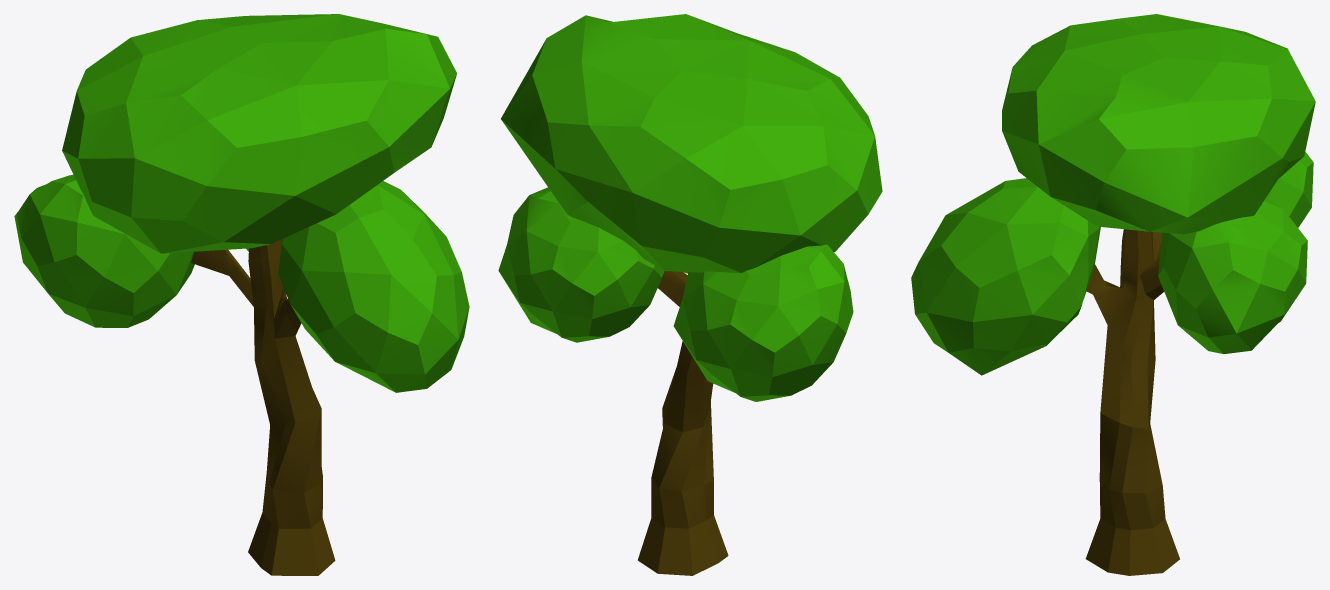
File: GreenTree4.fbx
3 views of the same model, side by side, from view 1: azimuth 30°, elevation 25°; view 2: azimuth 150°, elevation 25°; view 3: azimuth 270°, elevation 25° (orthographic). The views are drawn at different scales.
Visible parts, largest first — view 1: pPlatonic49; view 2: pPlatonic49; view 3: pPlatonic49.
Boxes of the visible parts, left/top/right/bottom form: pPlatonic49: left=14, top=14, right=469, bottom=575; pPlatonic49: left=498, top=14, right=882, bottom=575; pPlatonic49: left=911, top=14, right=1315, bottom=575.
Bounding box in the file's own units: 2.52 × 3.34 × 2.45.
